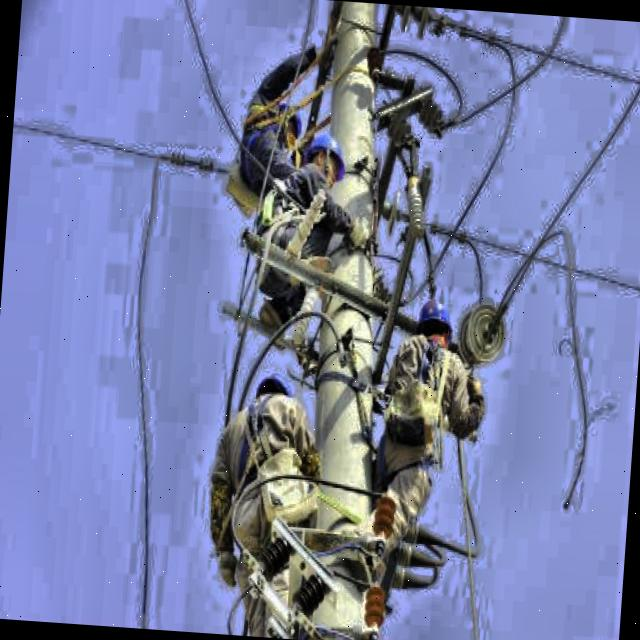helmet: (411, 300, 462, 354), (302, 126, 342, 188), (252, 362, 297, 415)
